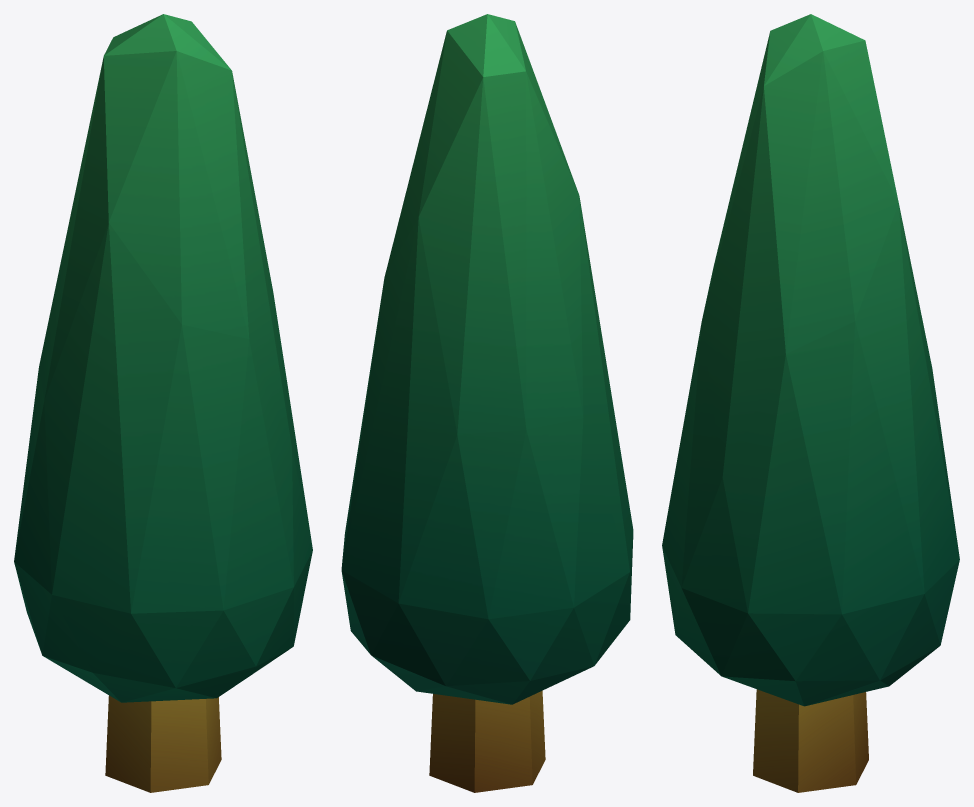
File: treeTallOne.fbx
3 views of the same model, side by side, from view 1: azimuth 30°, elevation 25°; view 2: azimuth 150°, elevation 25°; view 3: azimuth 270°, elevation 25° (orthographic).
Visible parts, largest first — view 1: Cylinder.003; view 2: Cylinder.003; view 3: Cylinder.003.
Part boxes in pixels (bbox=[...]): Cylinder.003: bbox=[14, 14, 312, 792]; Cylinder.003: bbox=[341, 14, 633, 792]; Cylinder.003: bbox=[662, 14, 959, 792].
Size of the model in its own units: 153 by 433 by 155.
